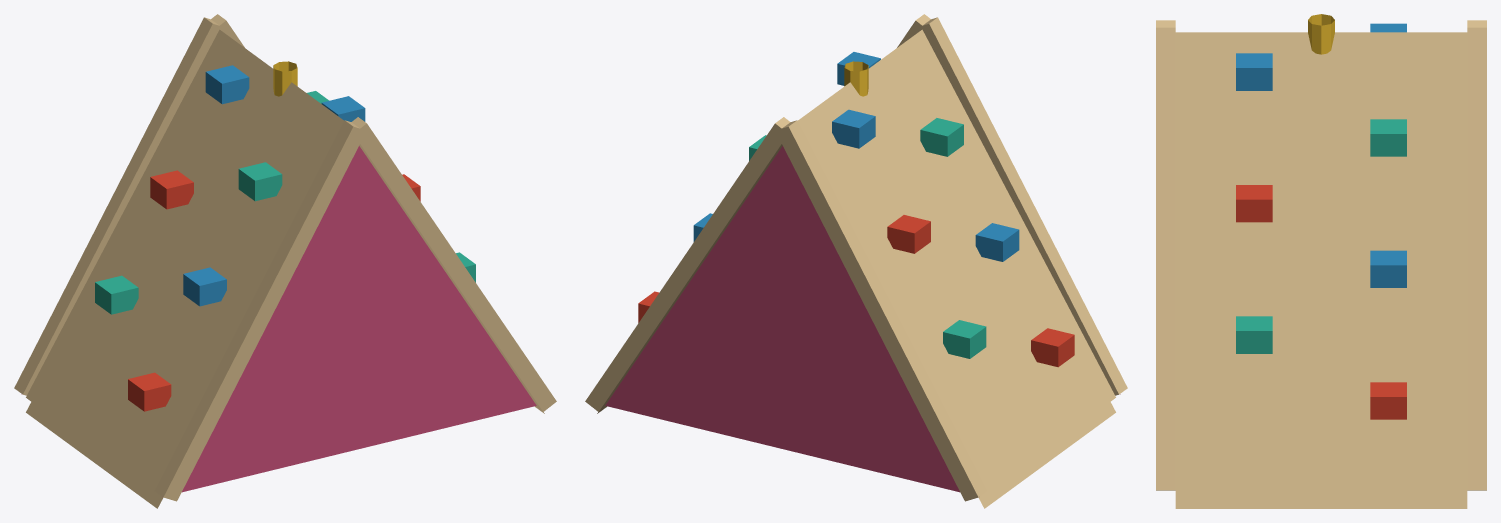
3 views of the same model, side by side, from view 1: azimuth 30°, elevation 25°; view 2: azimuth 150°, elevation 25°; view 3: azimuth 270°, elevation 25° (orthographic). The views are drawn at different scales.
Parts seen in each view (by area): view 1: SW-Y304; view 2: SW-Y304; view 3: SW-Y304.
Part boxes in pixels (x1,y1,x2,y2): SW-Y304: [14, 14, 556, 508]; SW-Y304: [585, 14, 1127, 508]; SW-Y304: [1156, 14, 1486, 508].
Bounding box in the file's own units: 1.08 × 0.91 × 0.71.
